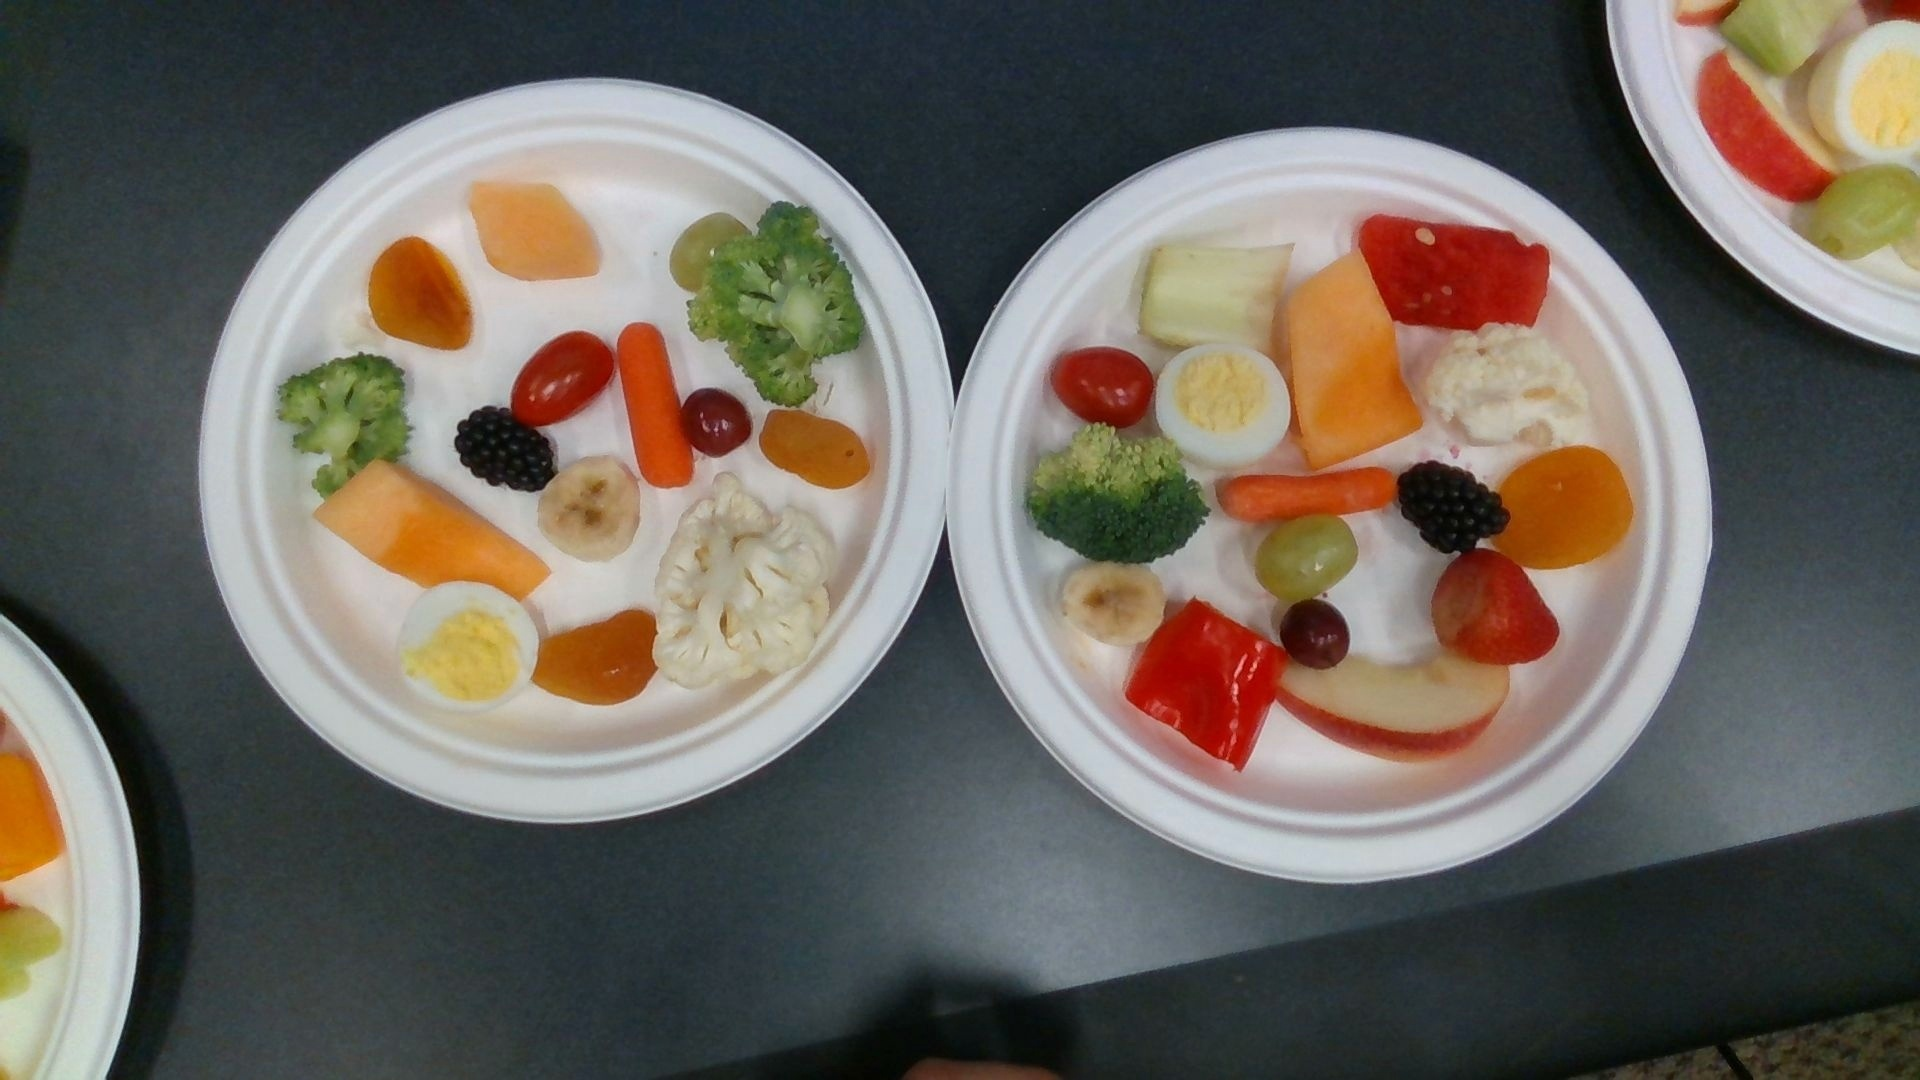apple: (1276, 666, 1509, 760)
apricot: (1491, 451, 1629, 570), (371, 237, 475, 351), (534, 615, 659, 705), (760, 407, 870, 488)
banana: (539, 460, 644, 560), (1064, 563, 1167, 646)
bell_pepper: (1130, 603, 1282, 770)
blackberry: (1400, 462, 1505, 551), (459, 407, 556, 491)
broccoli: (688, 204, 862, 404), (1025, 423, 1205, 560), (280, 356, 410, 491)
cantalope: (314, 465, 550, 597), (1274, 253, 1422, 463), (469, 179, 603, 280)
carrot: (615, 323, 690, 491), (1222, 471, 1396, 520)
cauliflower: (657, 476, 829, 684), (1424, 324, 1592, 448)
celery: (1142, 241, 1294, 349)
cherry_tomato: (514, 334, 615, 425), (1052, 351, 1155, 425)
egg: (396, 585, 537, 709), (1155, 351, 1290, 458)
grape_green: (1255, 516, 1360, 596)
grape_purple: (1282, 601, 1352, 670), (687, 392, 750, 455)
melon: (1362, 215, 1549, 331)
strawberry: (1433, 553, 1560, 661)
